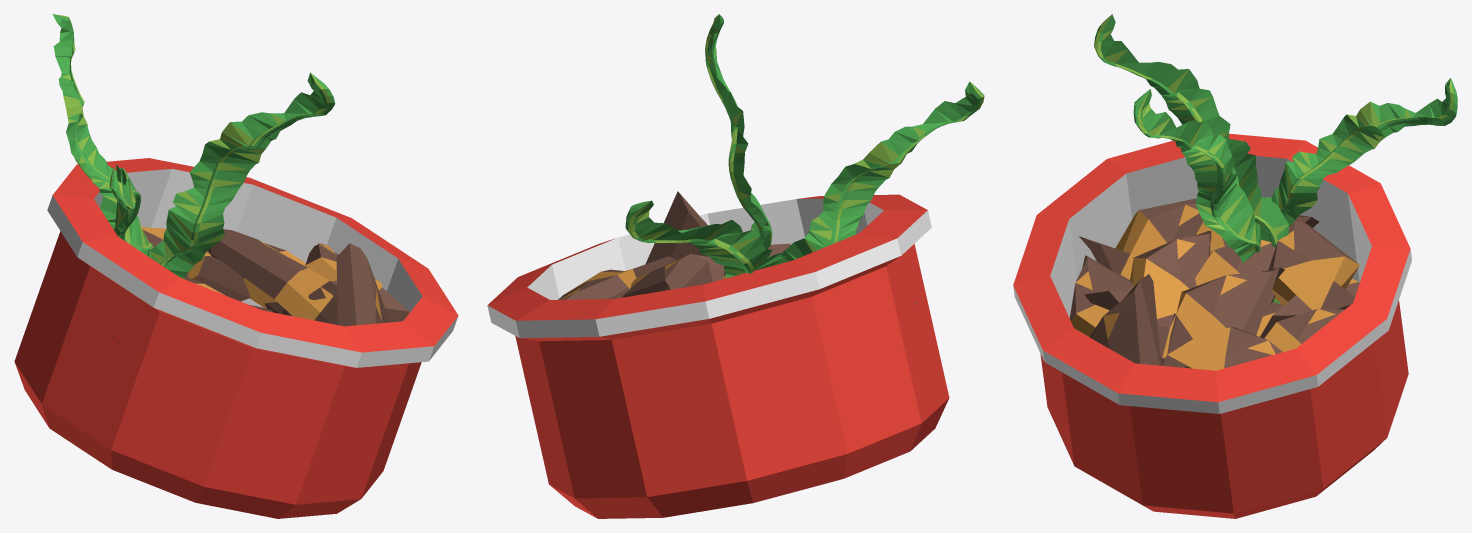
Rendered from tunaKibble.fbx.
3 renders of one model, left to right at view 1: azimuth 30°, elevation 25°; view 2: azimuth 150°, elevation 25°; view 3: azimuth 270°, elevation 25°, orthographic. The views are drawn at different scales.
Parts seen in each view (by area): view 1: group_1975464673, group_2139389139; view 2: group_1975464673, group_2139389139; view 3: group_1975464673, group_2139389139.
Part boxes in pixels (x1,y1,x2,y2): group_1975464673: [14, 158, 458, 518]; group_2139389139: [52, 14, 335, 279]; group_1975464673: [487, 191, 949, 518]; group_2139389139: [625, 14, 984, 278]; group_1975464673: [1013, 133, 1411, 518]; group_2139389139: [1094, 14, 1457, 303].
Size of the model in its own units: 11.97 by 12.77 by 12.83.
